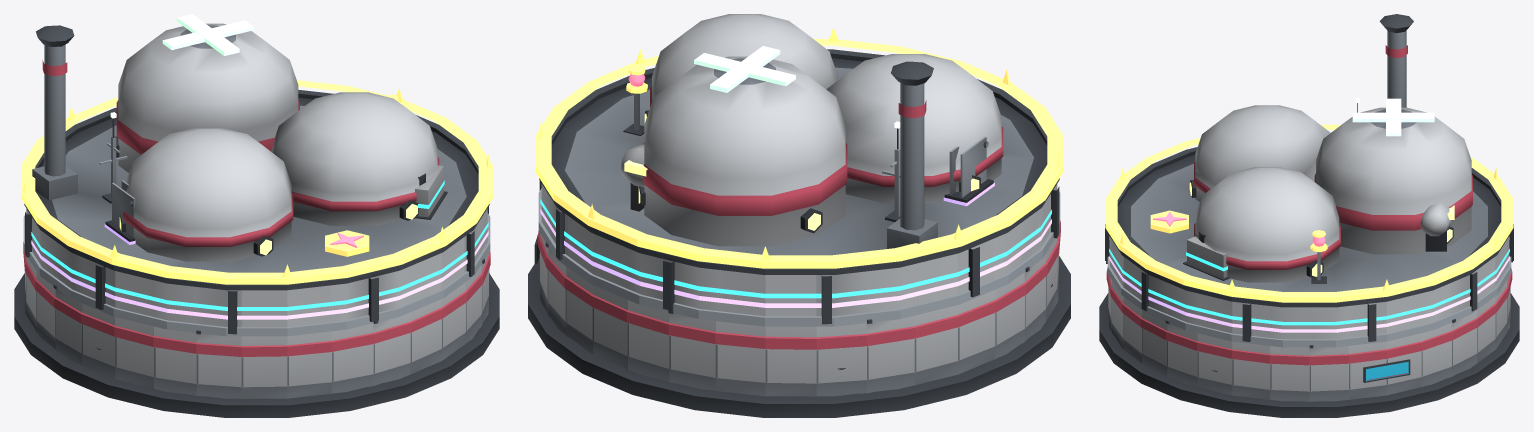
The model's file is bio_lab.glb.
The picture shows the model from 3 angles, left to right: view 1: azimuth 30°, elevation 25°; view 2: azimuth 150°, elevation 25°; view 3: azimuth 270°, elevation 25°; orthographic projection. The views are drawn at different scales.
Parts seen in each view (by area): view 1: Roof, Base, Wall_21, Wall_20, Wall_22, Wall_19, Wall_23, Wall_18, Wall_24, Wall_17, Wall_25, Upper_20 (+40 smaller); view 2: Roof, Base, Wall_10, Wall_11, Wall_09, Wall_12, Wall_08, Wall_13, Wall_07, L4, Wall_14, Wall_06 (+42 smaller); view 3: Roof, Base, Wall_00, Wall_31, Wall_30, Wall_29, Wall_01, Wall_28, Wall_03, Wall_02, Wall_04, Wall_27 (+34 smaller).
Boxes of the visible parts, box(x1,y1,x2,y2) form: Roof: box(32, 14, 478, 285); Base: box(14, 273, 499, 417); Wall_21: box(241, 336, 287, 398); Wall_20: box(196, 330, 241, 398); Wall_22: box(287, 331, 332, 398); Wall_19: box(153, 326, 196, 395); Wall_23: box(331, 323, 373, 393); Wall_18: box(114, 317, 153, 388); Wall_24: box(373, 312, 411, 385); Wall_17: box(81, 303, 115, 378); Wall_25: box(410, 299, 442, 374); Upper_20: box(196, 282, 241, 334); Roof: box(551, 14, 1047, 269); Base: box(528, 256, 1070, 417); Wall_10: box(765, 326, 816, 396); Wall_11: box(816, 323, 867, 396); Wall_09: box(715, 321, 765, 396); Wall_12: box(866, 315, 915, 393); Wall_08: box(668, 310, 715, 390); Wall_13: box(914, 305, 958, 385); Wall_07: box(626, 300, 669, 381); L4: box(620, 136, 994, 211); Wall_14: box(957, 290, 996, 374); Wall_06: box(591, 285, 627, 369); Roof: box(1117, 14, 1501, 302); Base: box(1099, 293, 1519, 417); Wall_00: box(1309, 345, 1348, 401); Wall_31: box(1270, 346, 1309, 401); Wall_30: box(1232, 341, 1270, 399); Wall_29: box(1197, 333, 1232, 395); Wall_01: box(1348, 341, 1386, 399); Wall_28: box(1165, 320, 1197, 387); Wall_03: box(1421, 323, 1452, 387); Wall_02: box(1386, 333, 1421, 395); Wall_04: box(1451, 310, 1477, 376); Wall_27: box(1141, 310, 1167, 376).
Size of the model in its own units: 8.72 by 5.75 by 8.72.
